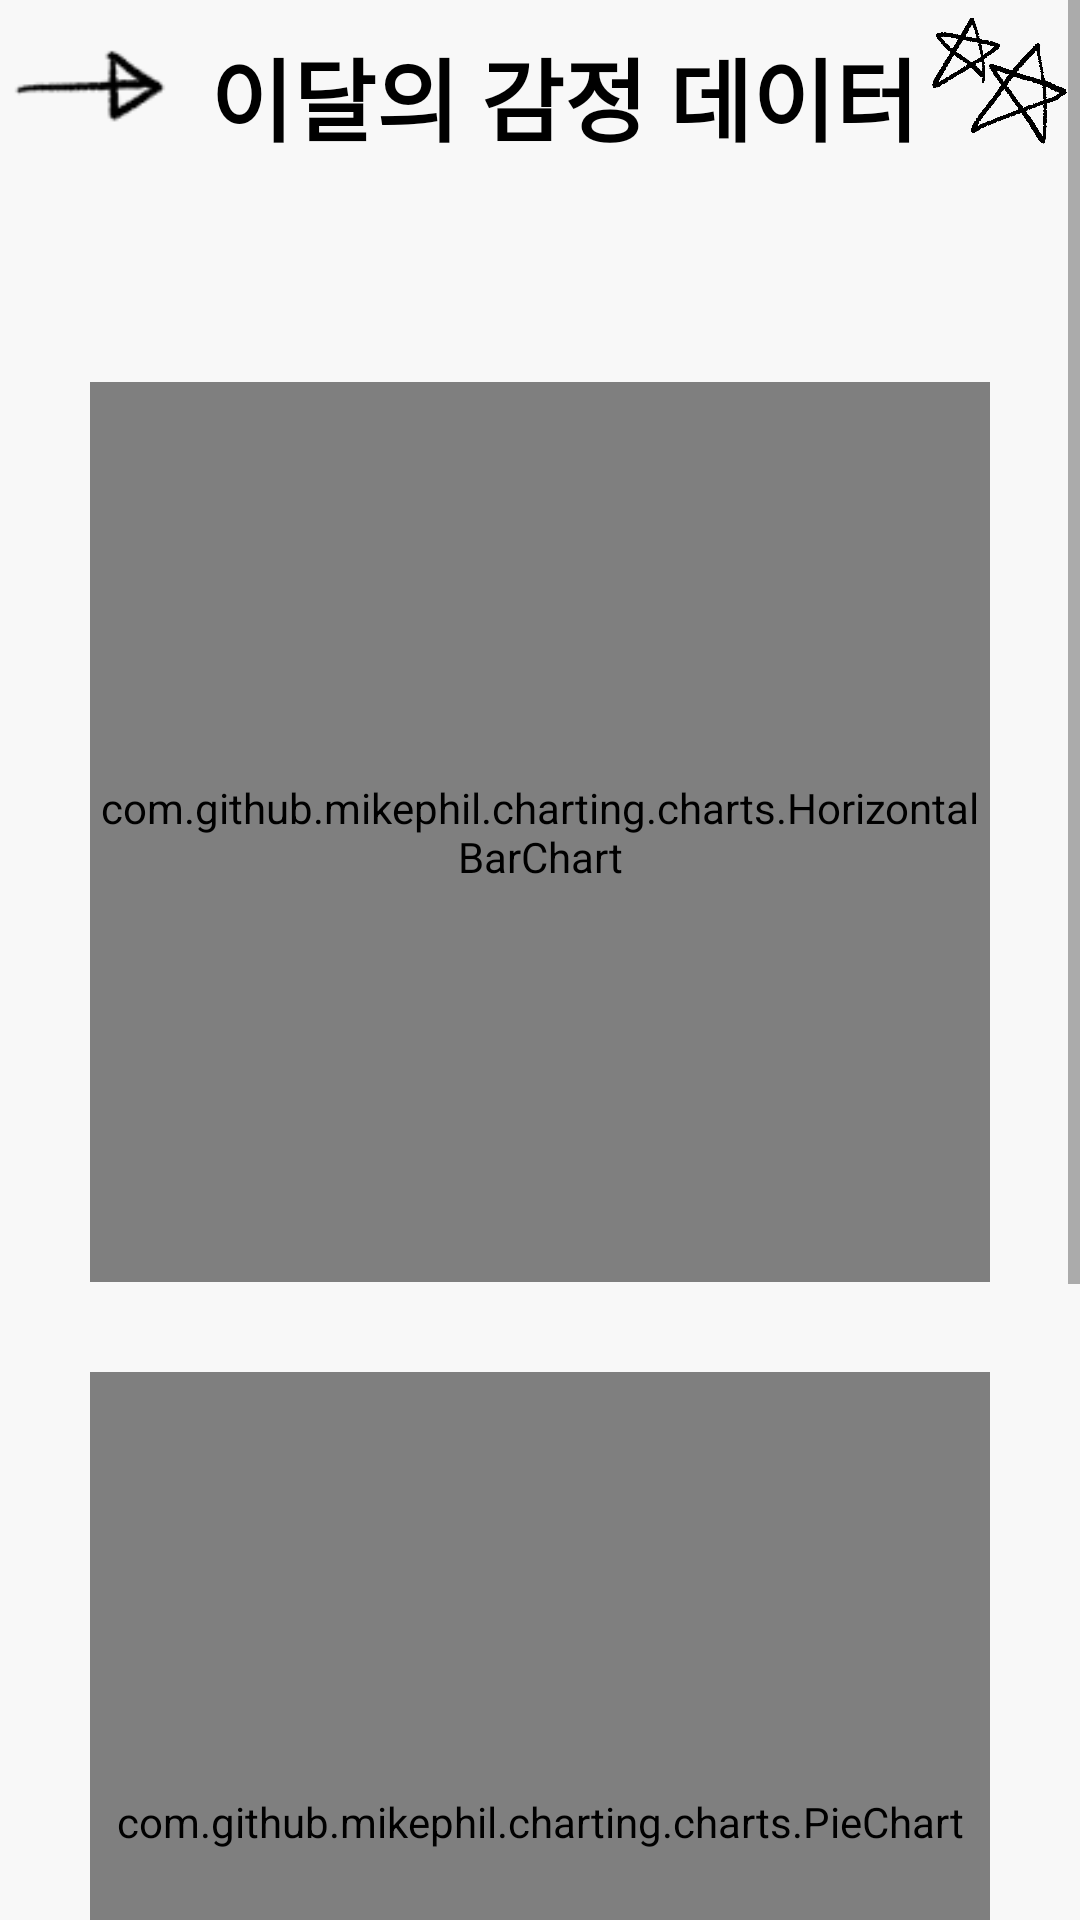

Screen size 1080×1920. Icon name, then its box in pixels as detection(x1, y1, x2, y2):
arrow: detection(15, 50, 165, 122)
star: detection(932, 18, 1067, 144)
